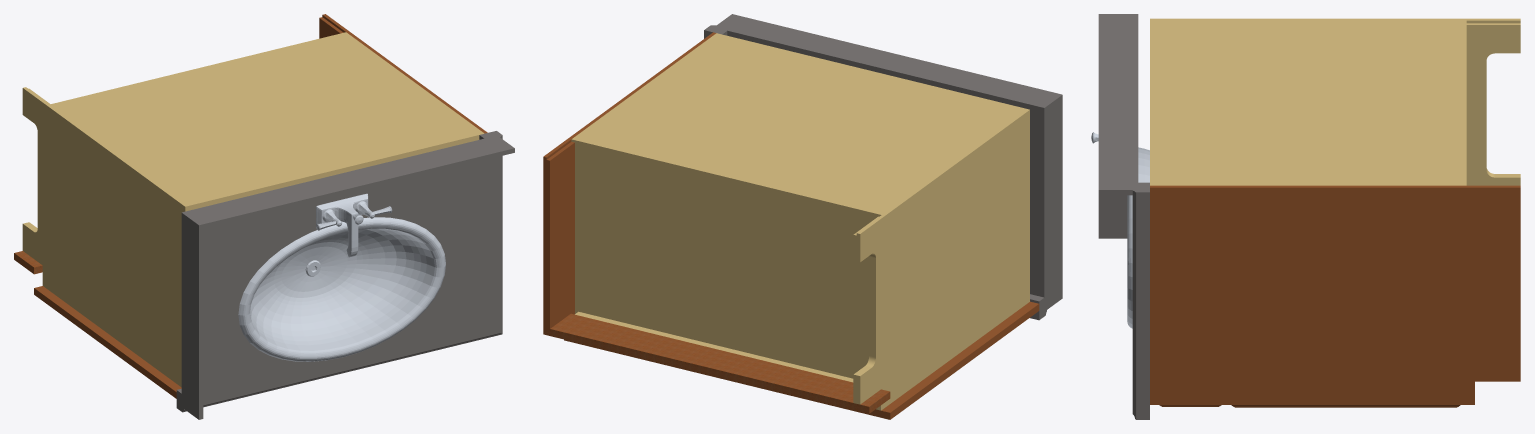
File: cat34_sink.obj
3 views of the same model, side by side, from view 1: azimuth 30°, elevation 25°; view 2: azimuth 150°, elevation 25°; view 3: azimuth 270°, elevation 25° (orthographic). The views are drawn at different scales.
Visible parts, largest first — view 1: Group#32, Group#1, End Panel - Left, object #2, Group#40, Group#39, Face Frame, End Panel - Right, Group#35; view 2: Bottom, Group#32, End Panel - Left, Group#33, Group#1, End Panel - Right, Group#40, Group#39, Face Frame, Group#34; view 3: End Panel - Right, Group#32, Group#40, End Panel - Left, Group#1, Group#39, object #2, Group#36.
Part boxes in pixels (<box>): Group#32: <box>50,32,484,207</box>; Group#1: <box>176,131,502,412</box>; End Panel - Left: <box>22,87,191,387</box>; object #2: <box>238,193,445,361</box>; Group#40: <box>188,137,514,228</box>; Group#39: <box>184,213,203,419</box>; Face Frame: <box>34,286,181,398</box>; End Panel - Right: <box>319,14,487,133</box>; Group#35: <box>191,137,479,209</box>; Bottom: <box>575,142,877,378</box>; Group#32: <box>571,33,1026,216</box>; End Panel - Left: <box>853,109,1029,410</box>; Group#33: <box>543,313,890,413</box>; Group#1: <box>704,25,1046,320</box>; End Panel - Right: <box>543,32,716,340</box>; Group#40: <box>717,14,1057,104</box>; Group#39: <box>1043,93,1062,309</box>; Face Frame: <box>564,301,1039,419</box>; Group#34: <box>575,311,853,382</box>; End Panel - Right: <box>1150,185,1520,404</box>; Group#32: <box>1150,20,1466,185</box>; Group#40: <box>1098,16,1132,195</box>; End Panel - Left: <box>1150,18,1520,185</box>; Group#1: <box>1132,14,1149,419</box>; Group#39: <box>1098,14,1132,238</box>; object #2: <box>1091,132,1149,328</box>; Group#36: <box>1231,405,1460,407</box>.
Size of the model in its own units: 37 by 22.99 by 37.64.
19 materials, 1 textured.
